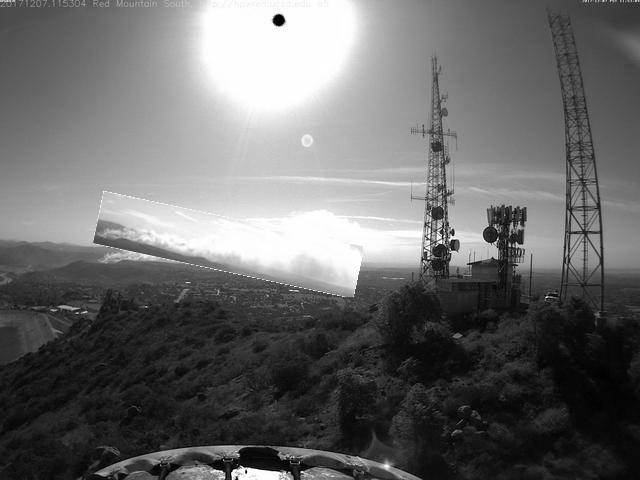smoke: (96, 206, 364, 286)
